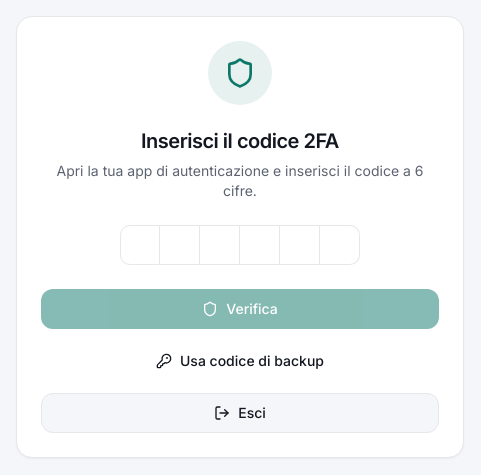
Scenario: MfaVerifyPage › returns to OTP mode from backup code mode
The image size is (481, 475).
Click the button "Usa codice di backup" at (240, 361), box left=41, top=341, right=439, bottom=381
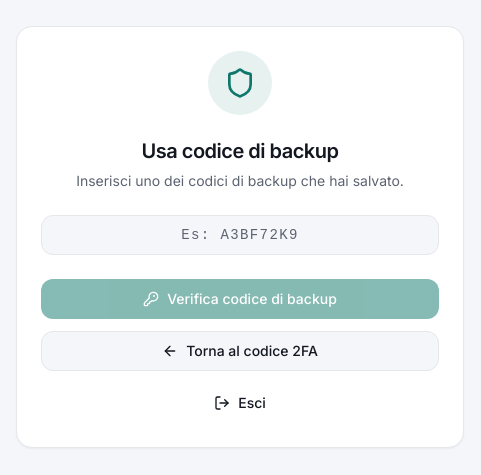
Now the button "Verifica codice di backup" is shown, box left=41, top=279, right=439, bottom=319
Click the button "Torna al codice 2FA" at (240, 351), box left=41, top=331, right=439, bottom=371
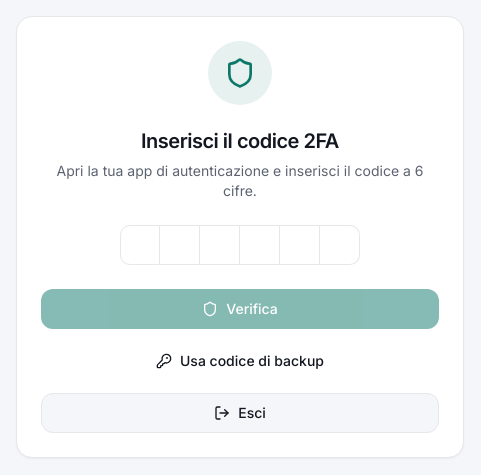
Now the heading "Inserisci il codice 2FA" is shown, box left=141, top=129, right=339, bottom=153
